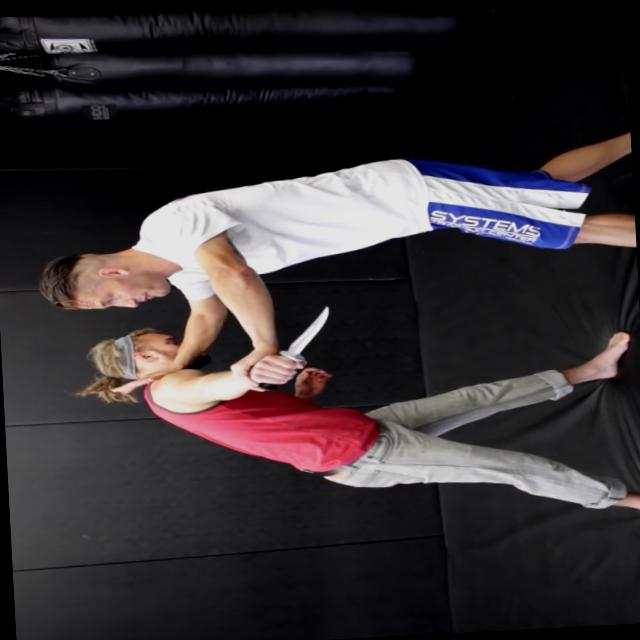knife: (252, 296, 346, 392)
